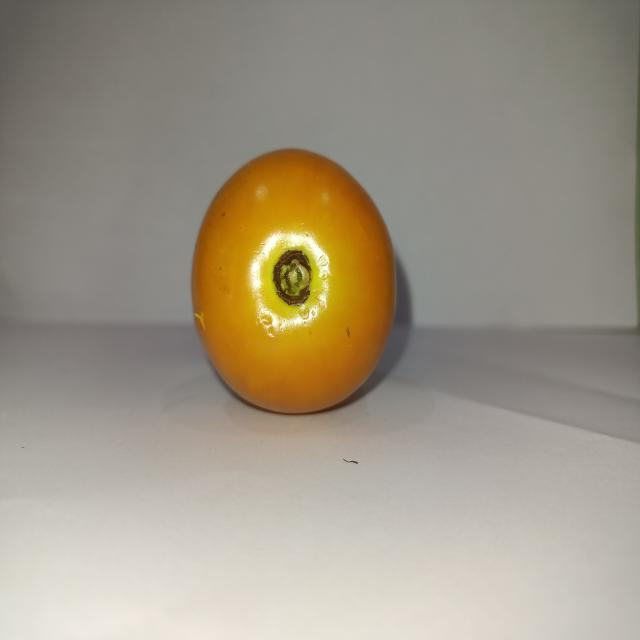Red: (189, 146, 397, 415)
